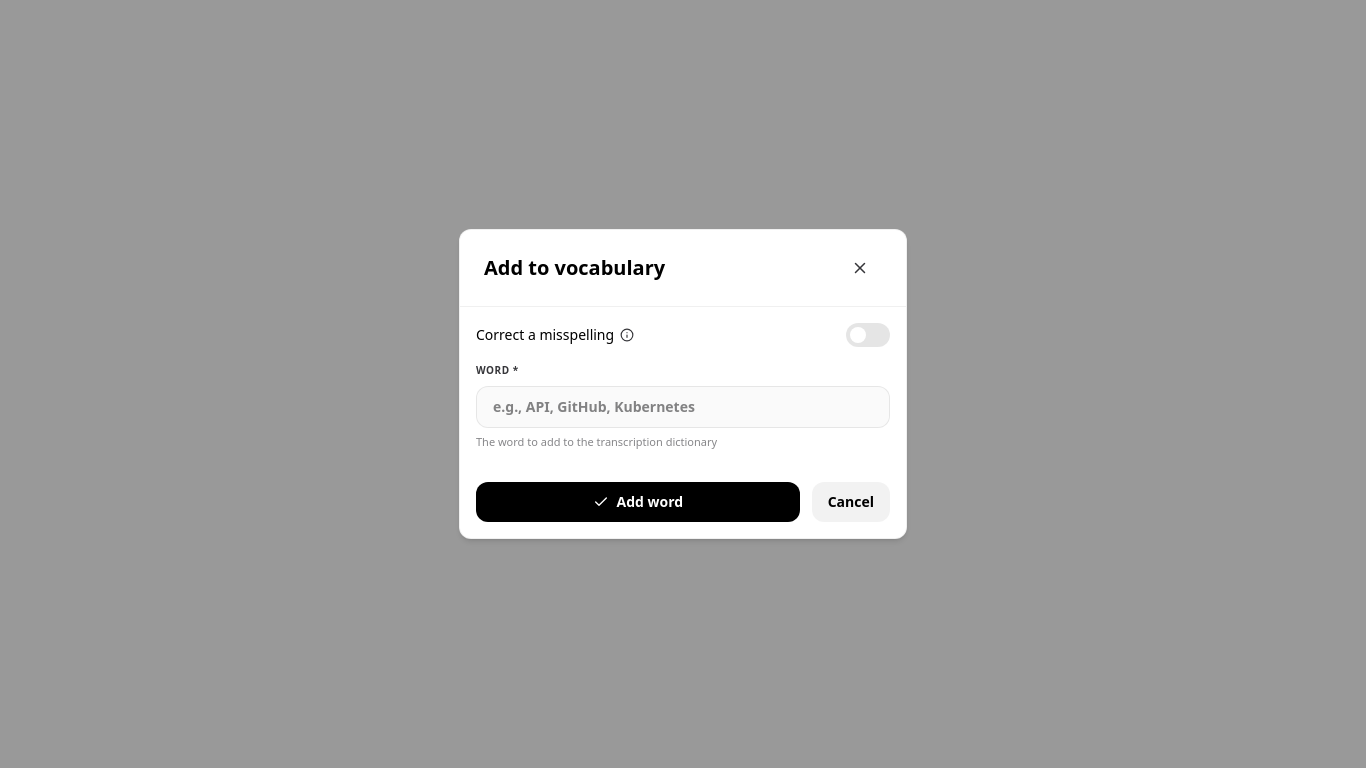
AddWordModal › should validate misspelling fields when in correction mode
# Enable correction mode
Click the switch. click: (868, 335)
box: [846,323,890,347]
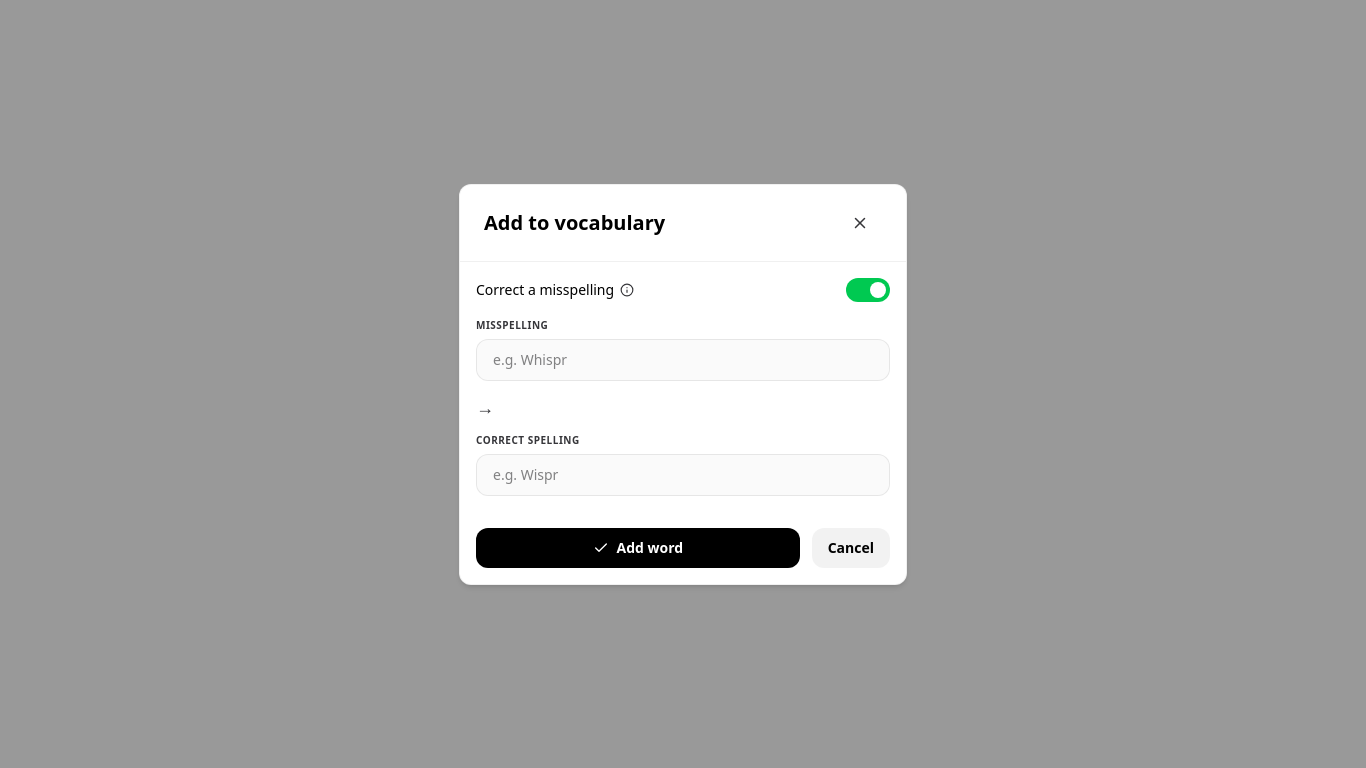
Click the button "Add word". click: (638, 548)
box: [476,528,800,568]
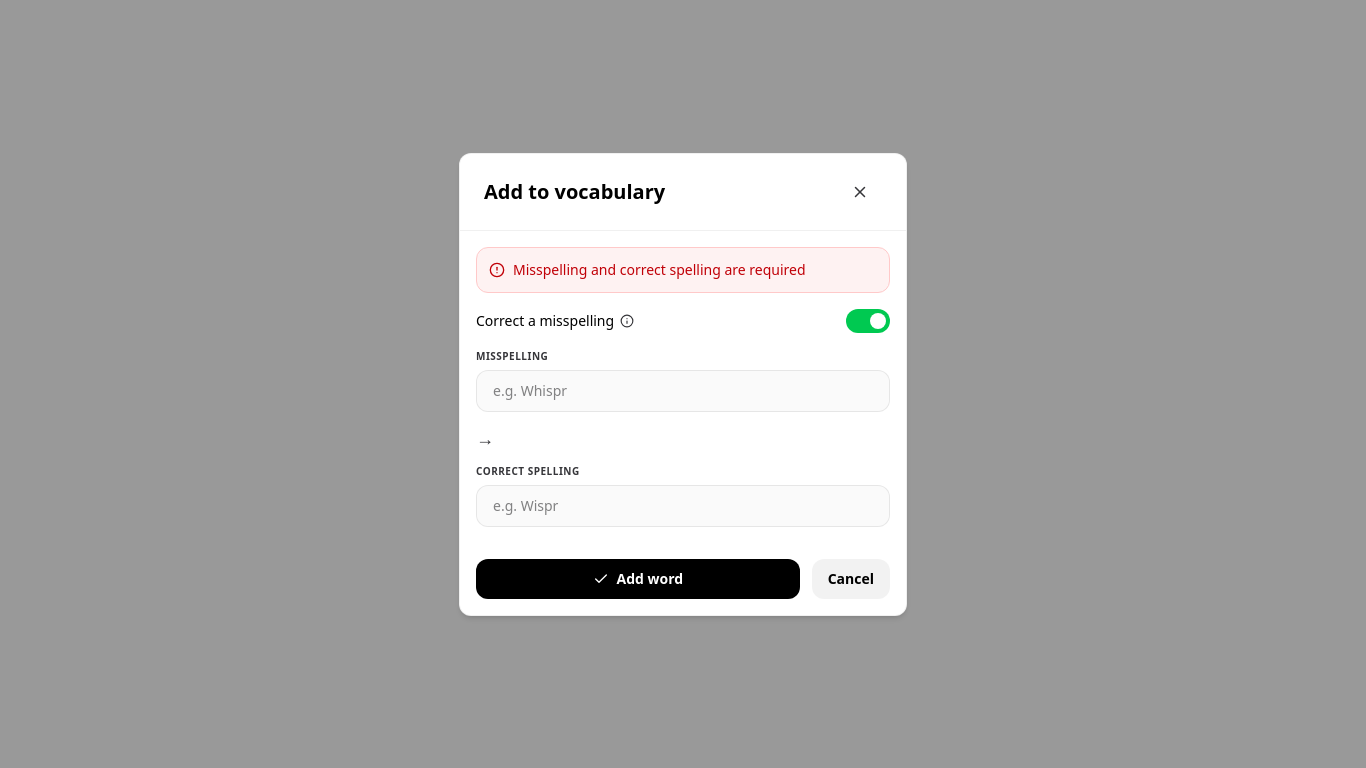
expect the text "Misspelling and correct spelling are required" is shown: met, box [513,260,806,280]
